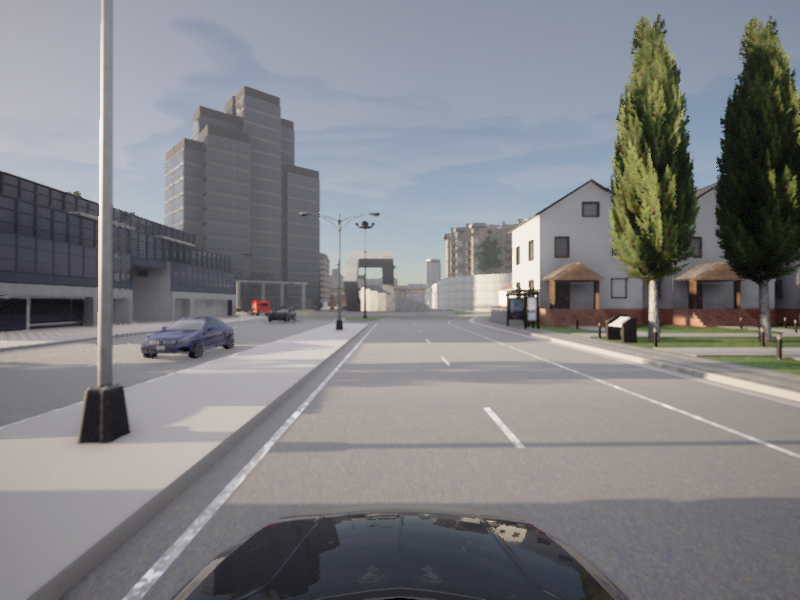vehicle: (133, 315, 240, 361), (264, 306, 298, 323)
